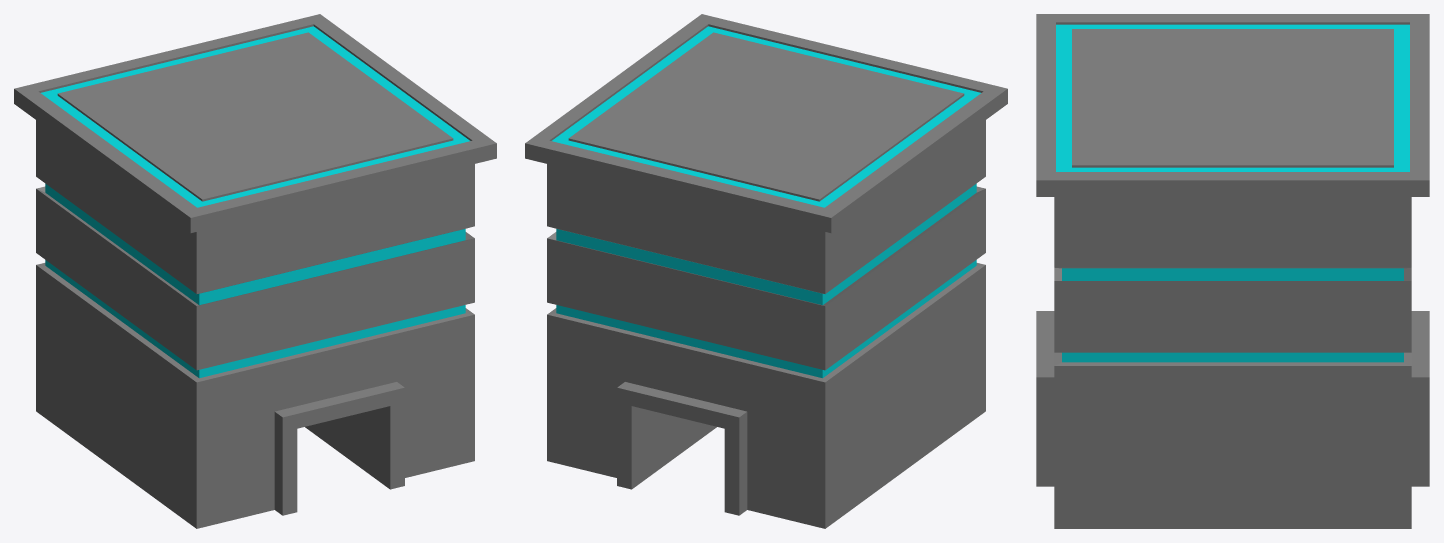
The model's file is Box_Tiny_Door_Single_Origin_Up.fbx.
3 views of the same model, side by side, from view 1: azimuth 30°, elevation 25°; view 2: azimuth 150°, elevation 25°; view 3: azimuth 270°, elevation 25° (orthographic). The views are drawn at different scales.
Visible parts, largest first — view 1: Box_Tiny_Door_Single_Origin_Up.001; view 2: Box_Tiny_Door_Single_Origin_Up.001; view 3: Box_Tiny_Door_Single_Origin_Up.001.
Boxes of the visible parts, x1,y1,x2,y2 form: Box_Tiny_Door_Single_Origin_Up.001: (14,14,496,528); Box_Tiny_Door_Single_Origin_Up.001: (525,14,1007,528); Box_Tiny_Door_Single_Origin_Up.001: (1036,14,1429,528).
Size of the model in its own units: 200 by 200 by 200.
